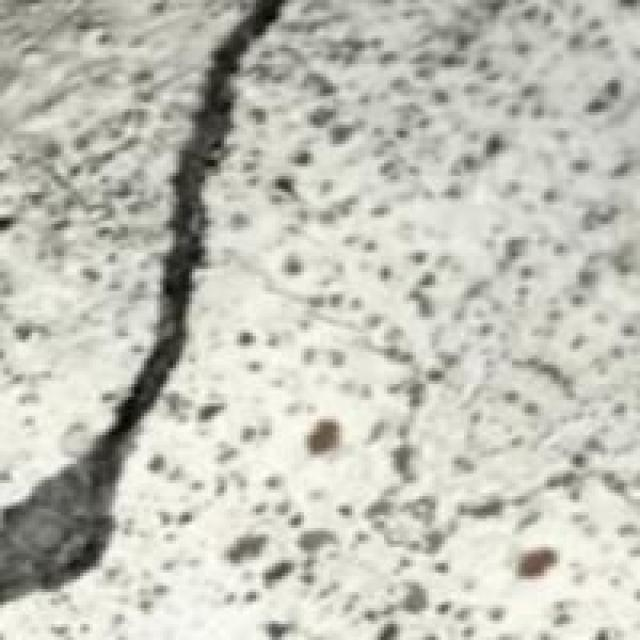Crack: (0, 0, 326, 595)
